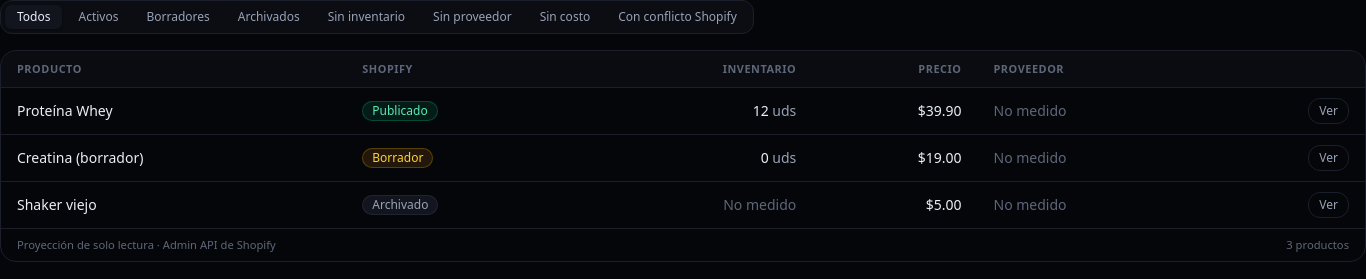
ProductsCatalog › is honest that supplier/cost views need the internal catalog
The width and height of the screenshot is (1366, 279).
Step 1. Click the tab "Sin proveedor" → (472, 17), box [421, 5, 524, 29]
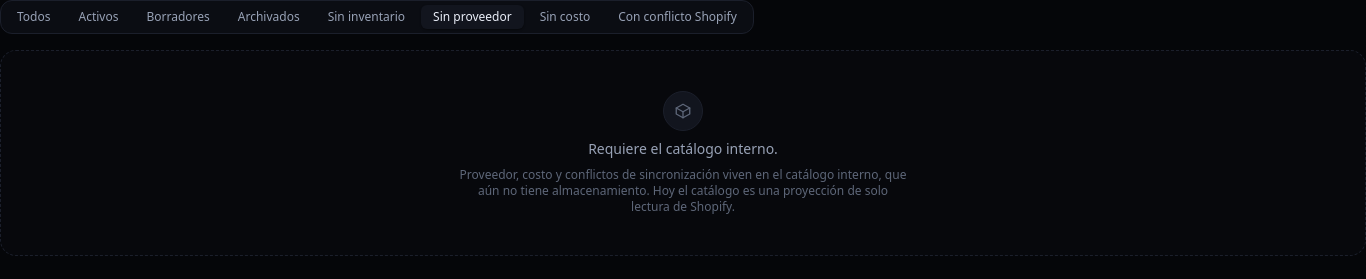
Expected: the text "Requiere el catálogo interno." is shown, [588, 139, 778, 159]
